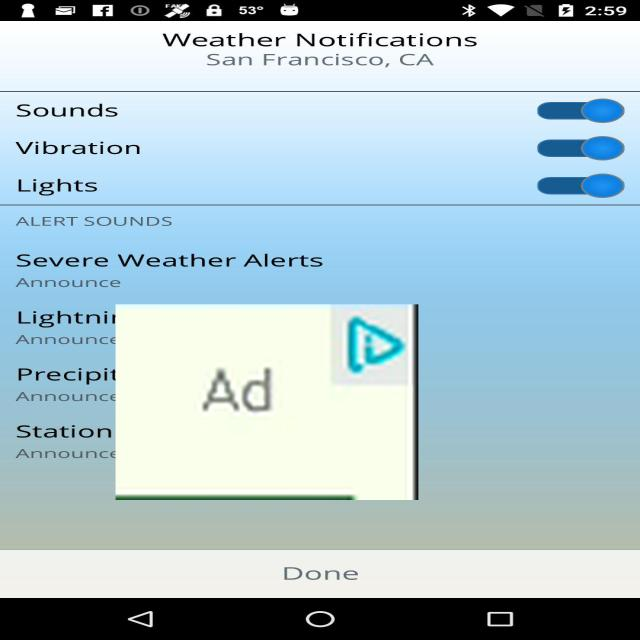sneaking: (115, 304, 418, 500)
